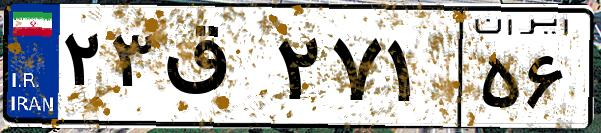1: (385, 28, 445, 110)
2: (270, 28, 330, 110), (57, 26, 110, 100)
3: (110, 28, 158, 98)
5: (475, 38, 525, 113)
6: (525, 38, 570, 115)
7: (330, 28, 385, 110)
ق: (158, 20, 270, 120)
